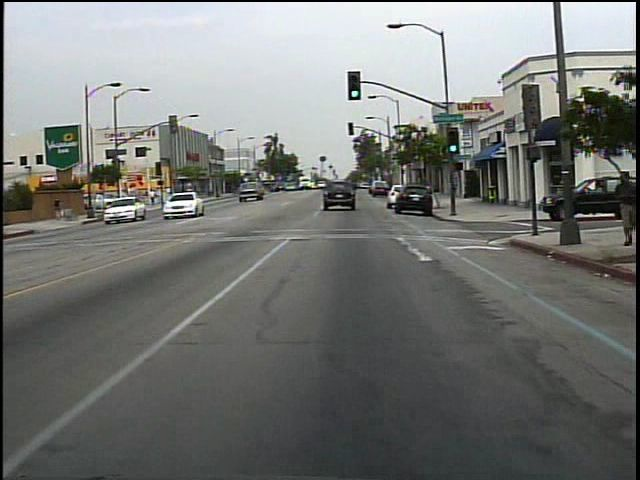person: (605, 165, 632, 250), (50, 194, 70, 223), (147, 185, 163, 210)
